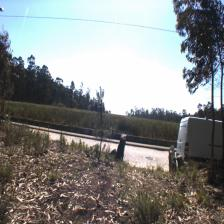trunktrack_idkeyframe: (220, 125, 224, 162), (212, 124, 216, 160)
